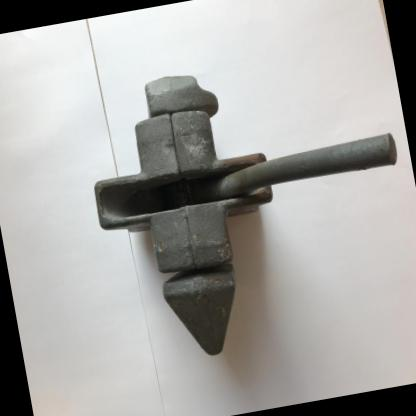Twistlock: (70, 29, 415, 376)
